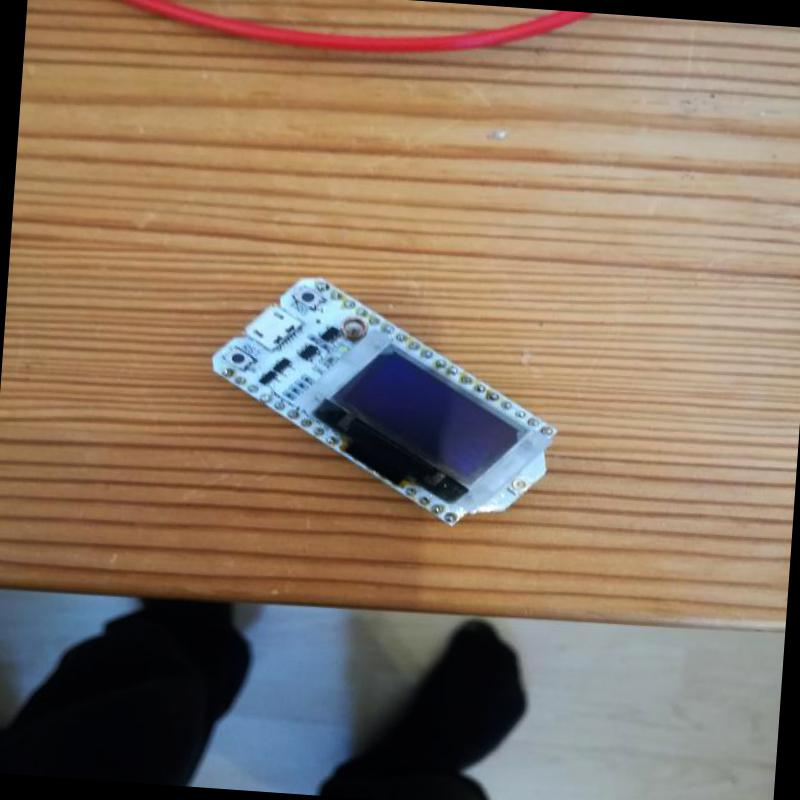Heltec_ESP32_Lora: (194, 266, 569, 545)
